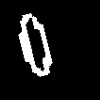chain: (19, 13, 52, 75)
